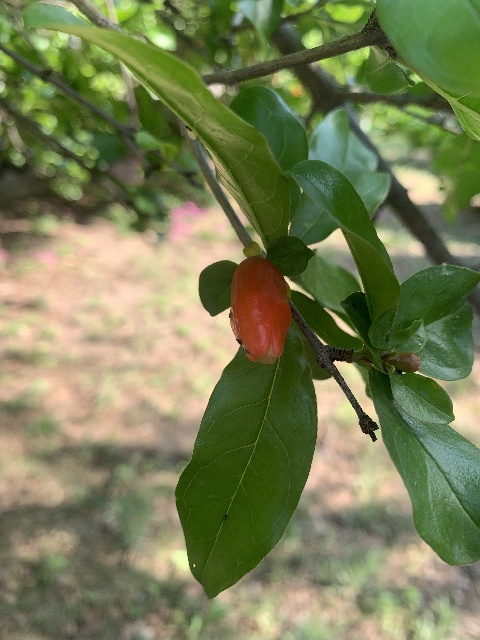bud: (230, 256, 291, 365), (388, 352, 420, 372)
